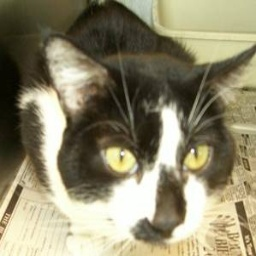cat: (14, 5, 240, 245)
